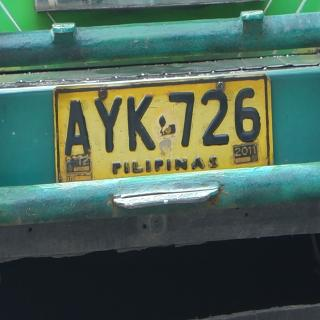license: (56, 77, 274, 183)
